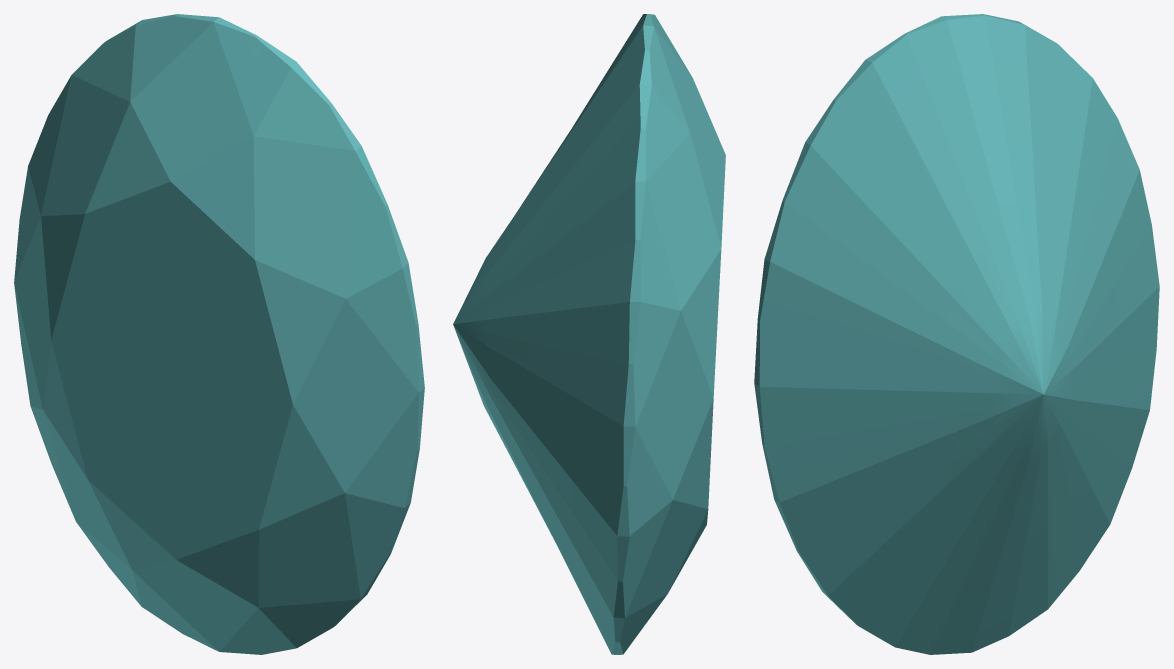
File: BL4_8shapes_Oval_Classic_Stone.001 2.glb
3 renders of one model, left to right at view 1: azimuth 30°, elevation 25°; view 2: azimuth 150°, elevation 25°; view 3: azimuth 270°, elevation 25°, orthographic. The views are drawn at different scales.
Visible parts, largest first — view 1: BL4_8shapes_Oval_Classic_Stone.001; view 2: BL4_8shapes_Oval_Classic_Stone.001; view 3: BL4_8shapes_Oval_Classic_Stone.001.
Boxes of the visible parts, <box> form: BL4_8shapes_Oval_Classic_Stone.001: <box>14,14,424,654</box>; BL4_8shapes_Oval_Classic_Stone.001: <box>453,14,725,654</box>; BL4_8shapes_Oval_Classic_Stone.001: <box>754,14,1159,654</box>.
Size of the model in its own units: 0.2697 by 0.6135 by 0.3613.
